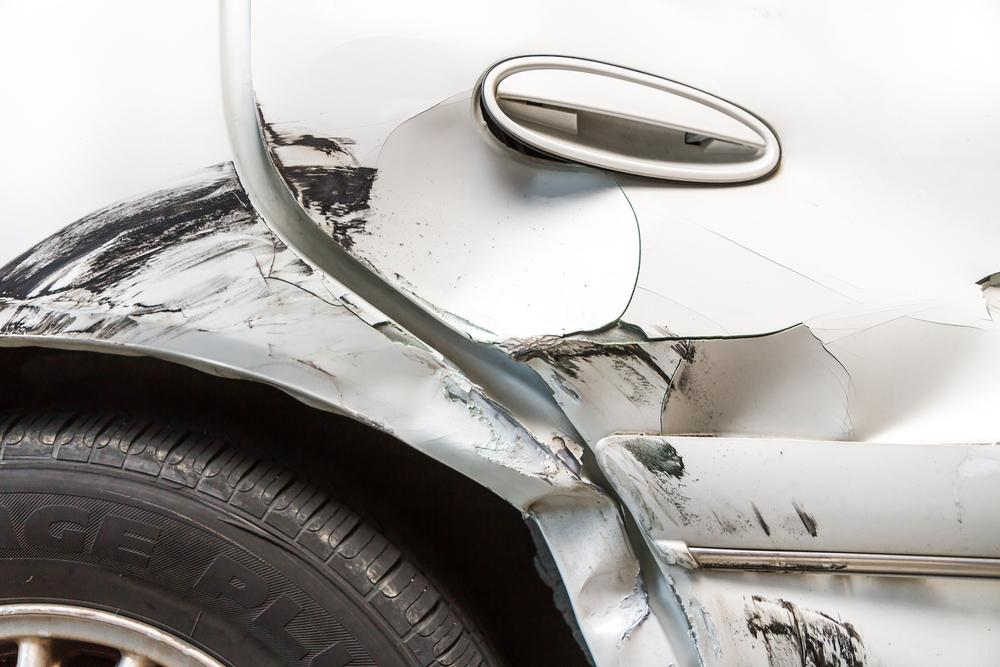dent: (381, 107, 1000, 444), (344, 349, 656, 667)
scratch: (0, 158, 353, 362), (603, 433, 826, 544), (253, 97, 371, 246), (738, 590, 876, 667)
